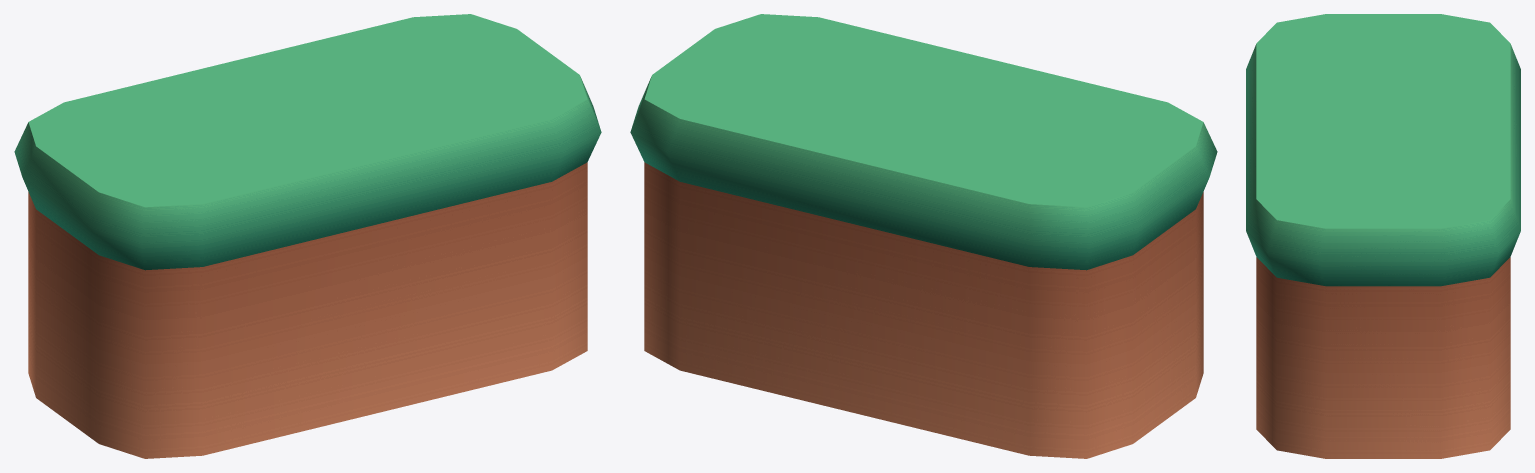
The model's file is block-grass-long.glb.
3 renders of one model, left to right at view 1: azimuth 30°, elevation 25°; view 2: azimuth 150°, elevation 25°; view 3: azimuth 270°, elevation 25°, orthographic. The views are drawn at different scales.
Parts seen in each view (by area): view 1: block-grass-long; view 2: block-grass-long; view 3: block-grass-long.
Boxes of the visible parts, left/top/right/bottom form: block-grass-long: left=14, top=14, right=601, bottom=458; block-grass-long: left=630, top=14, right=1217, bottom=458; block-grass-long: left=1246, top=14, right=1520, bottom=458.
Bounding box in the file's own units: 2.08 × 1 × 1.08.
Materials: 1 (1 with a texture image).
